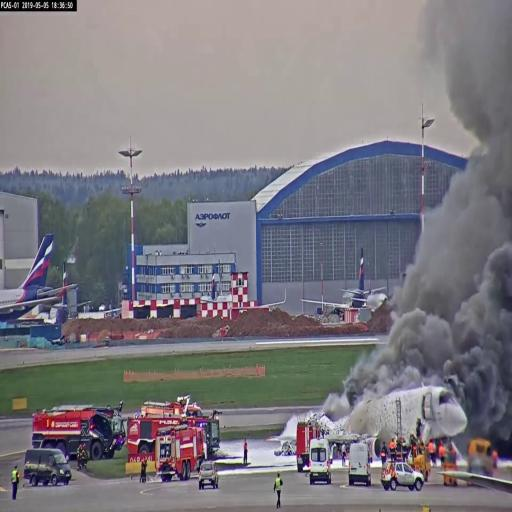smoke: (408, 166, 503, 307), (471, 184, 512, 403), (447, 11, 512, 131), (379, 313, 452, 384)
